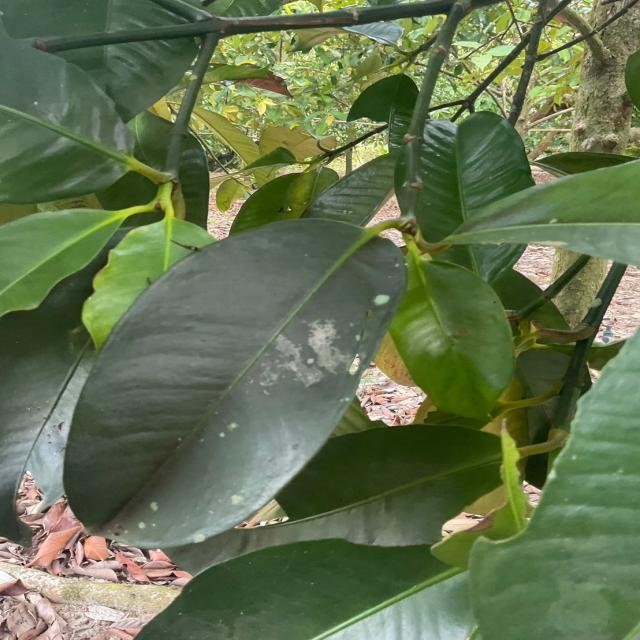Leaf Spot: (254, 280, 427, 382)
